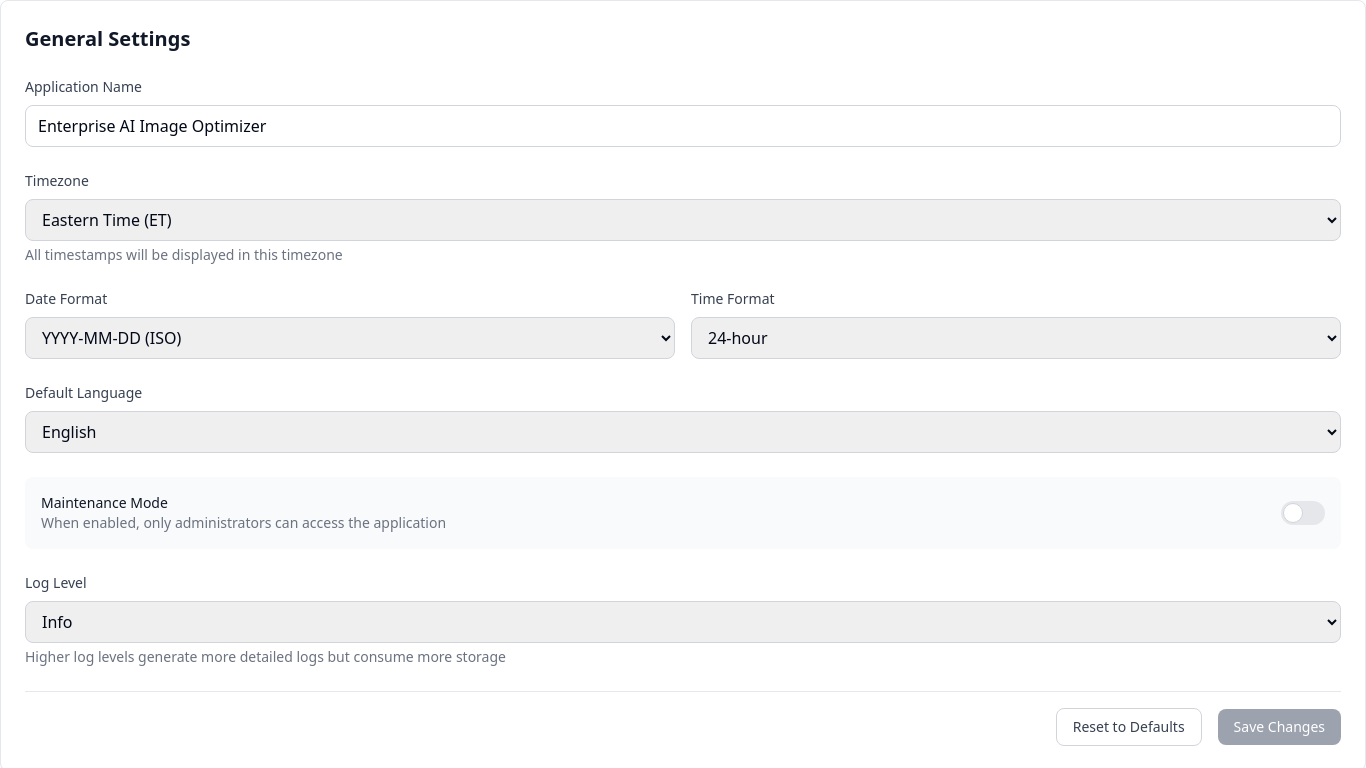
Test: GeneralSettings › resets form when reset button is clicked
The width and height of the screenshot is (1366, 768).
Replace the text in the field labelled "Application Name" with "Modified Name" at (683,126), box [25,105,1341,147]
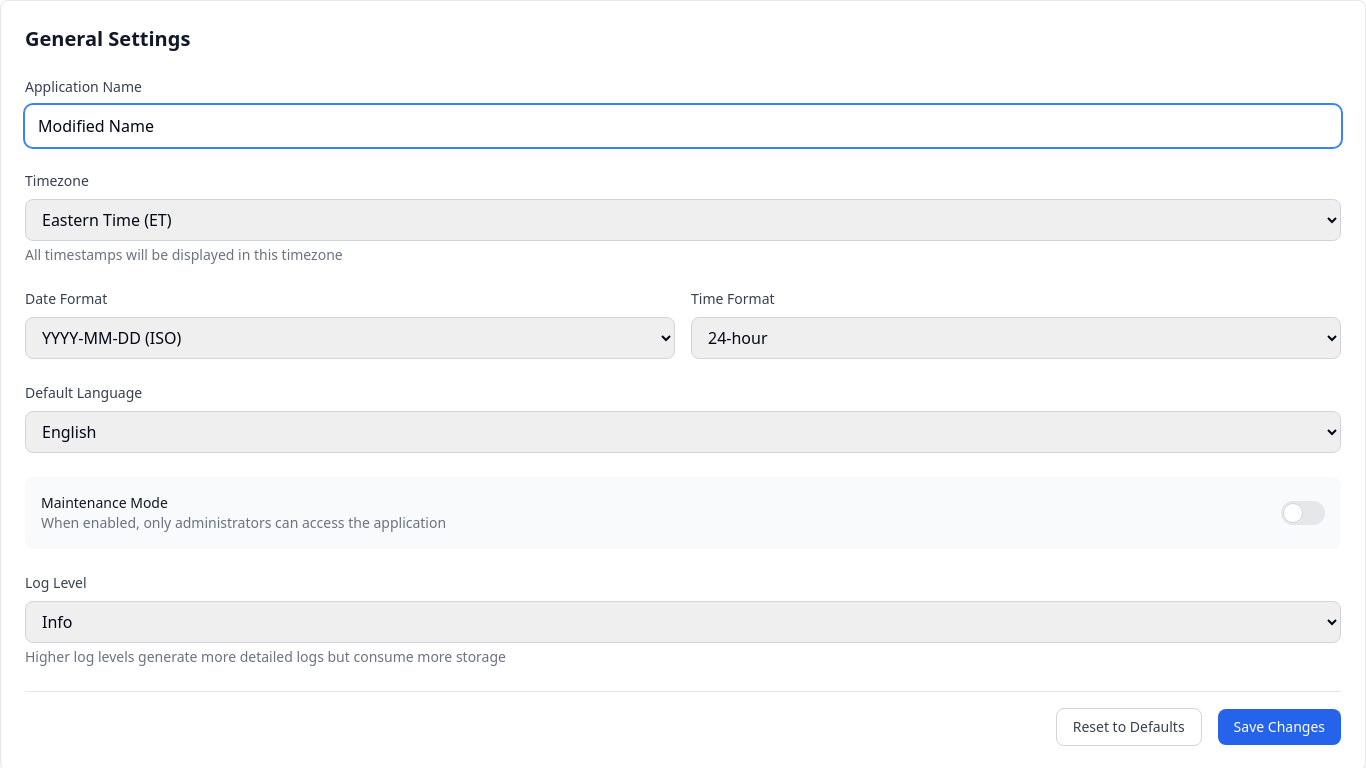
Click the button "Reset to Defaults" at (1129,727), box [1056,708,1202,746]
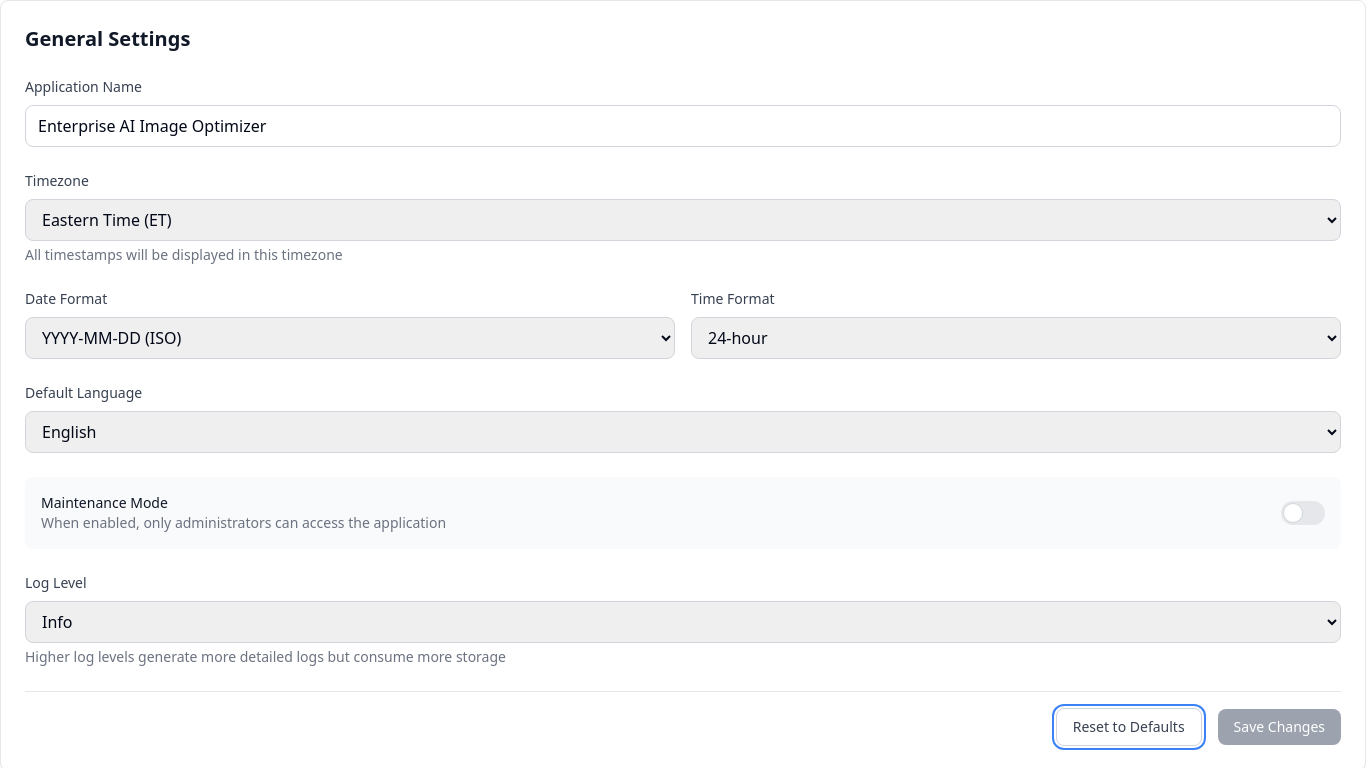
Check: the field labelled "Application Name" holds "Enterprise AI Image Optimizer", box [25,105,1341,147]
